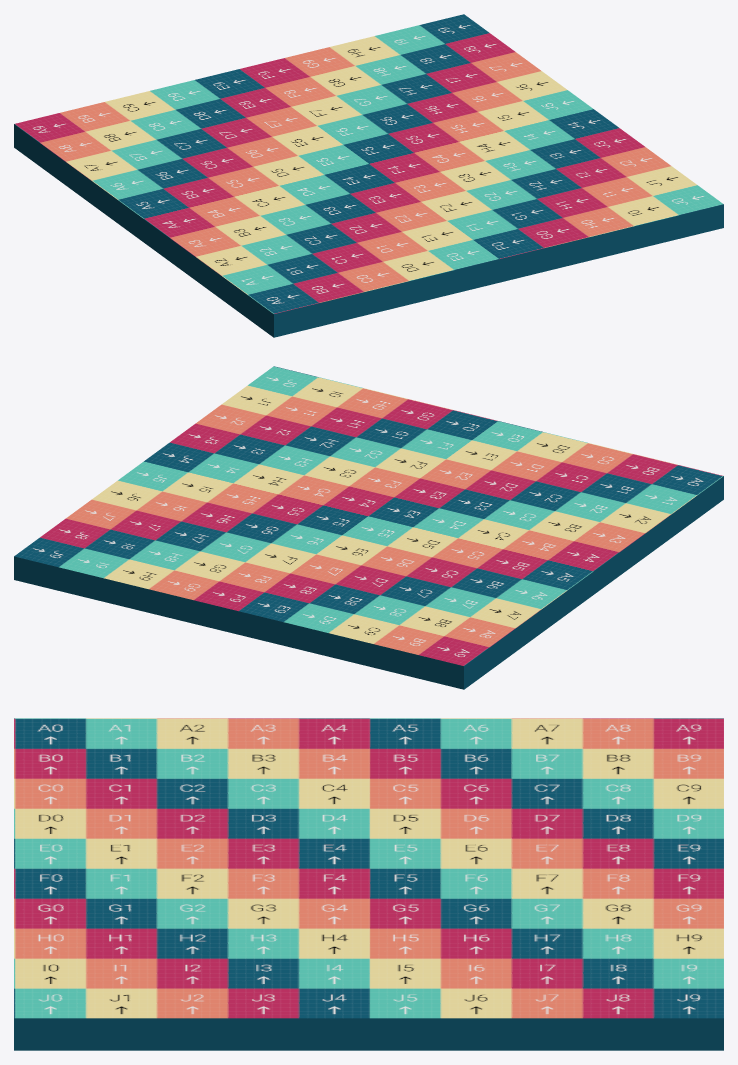
File: jimen3.fbx
The picture shows the model from 3 angles, top to bottom: view 1: azimuth 30°, elevation 25°; view 2: azimuth 150°, elevation 25°; view 3: azimuth 270°, elevation 25°; orthographic projection. The views are drawn at different scales.
Parts seen in each view (by area): view 1: pCube1; view 2: pCube1; view 3: pCube1.
Boxes of the visible parts, x1,y1,x2,y2 form: pCube1: [14, 14, 723, 337]; pCube1: [14, 366, 723, 689]; pCube1: [14, 718, 723, 1050].
Bounding box in the file's own units: 20 × 1 × 20.
1 material, 1 textured.
